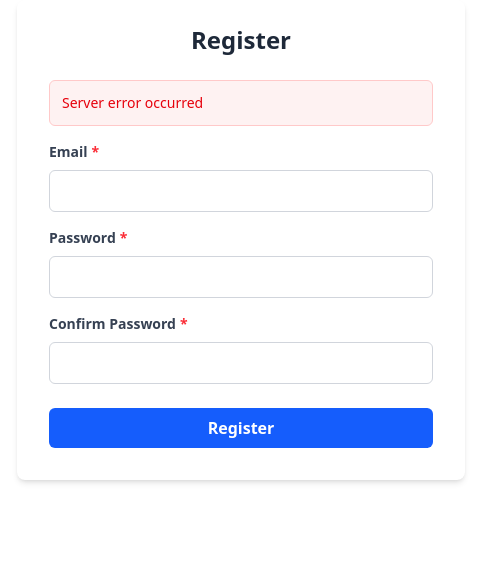
RegisterForm › can display both server error and password mismatch error
Expected: the text "Server error occurred" is shown, [62, 93, 203, 112]
Type "test@example.com" into the field labelled "Email*". click: (241, 191)
box: [49, 170, 433, 212]
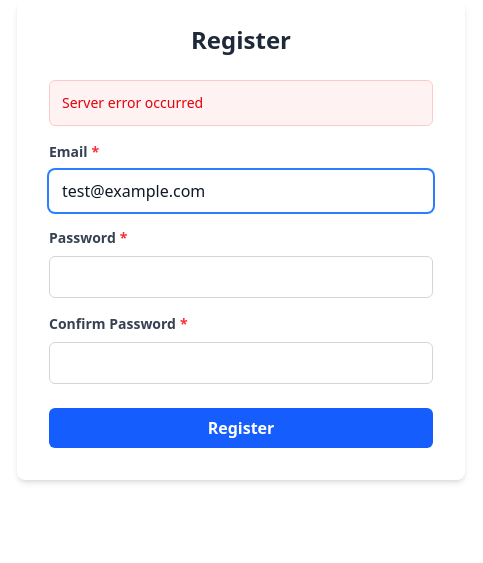
Type "pass1" into the password field labelled "Password*". click: (241, 277)
box: [49, 256, 433, 298]
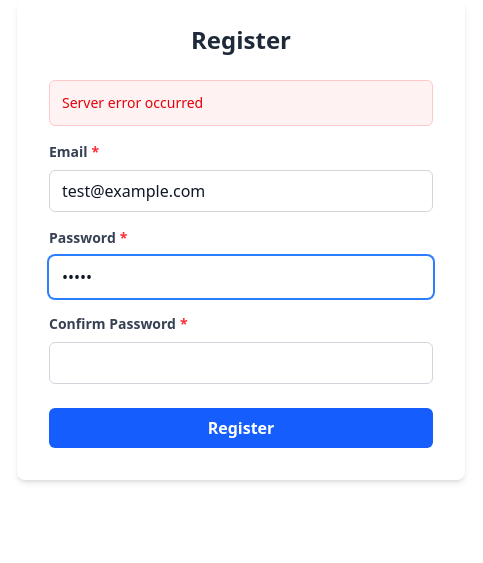
Type "pass2" into the password field labelled "Confirm Password*". click: (241, 363)
box: [49, 342, 433, 384]
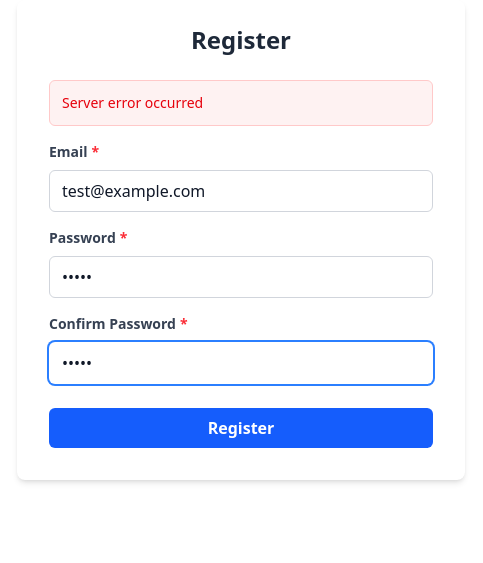
Click the button "Register". click: (241, 428)
box: [49, 408, 433, 448]
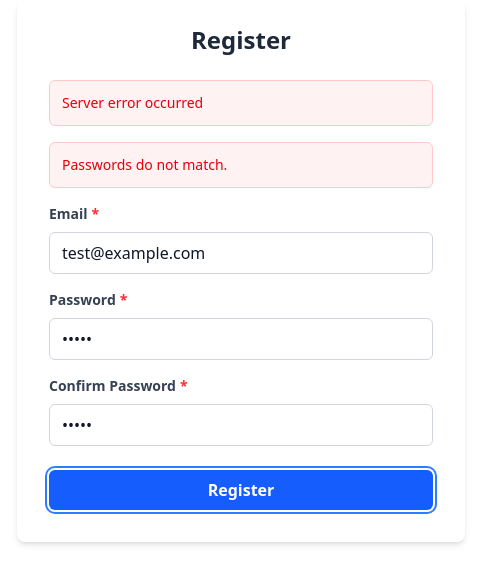
Expected: the text "Server error occurred" is shown, [62, 93, 203, 112]
Expected: the text "Passwords do not match." is shown, [62, 155, 227, 174]
